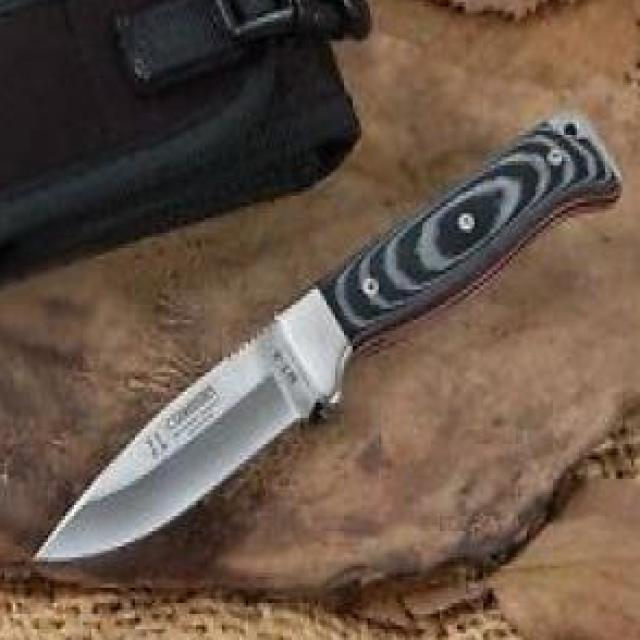knife: (22, 279, 367, 569)
